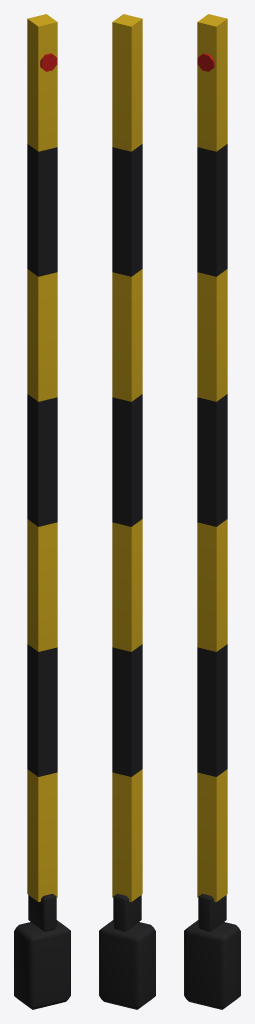
The model's file is CrossingArmKM.fbx.
The picture shows the model from 3 angles, left to right: view 1: azimuth 30°, elevation 25°; view 2: azimuth 150°, elevation 25°; view 3: azimuth 330°, elevation 25°; orthographic projection.
Visible parts, largest first — view 1: CrossingArmKM; view 2: CrossingArmKM; view 3: CrossingArmKM.
Part boxes in pixels (x1,y1,x2,y2): CrossingArmKM: [14, 14, 70, 1009]; CrossingArmKM: [99, 14, 155, 1009]; CrossingArmKM: [184, 14, 240, 1009].
Size of the model in its own units: 0.18 by 3.92 by 0.14.
